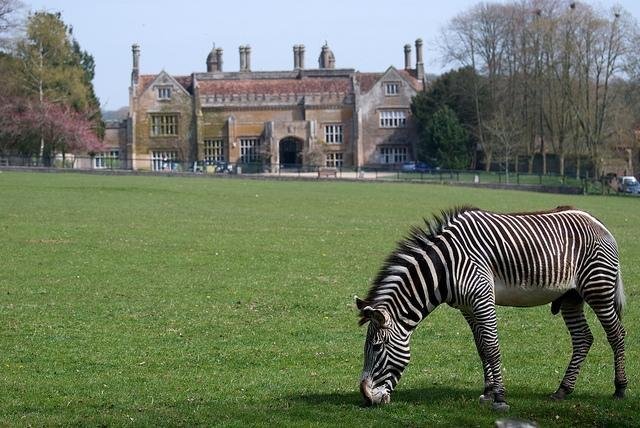car: (188, 160, 226, 174), (618, 176, 640, 192), (416, 160, 436, 174), (402, 161, 417, 173)
